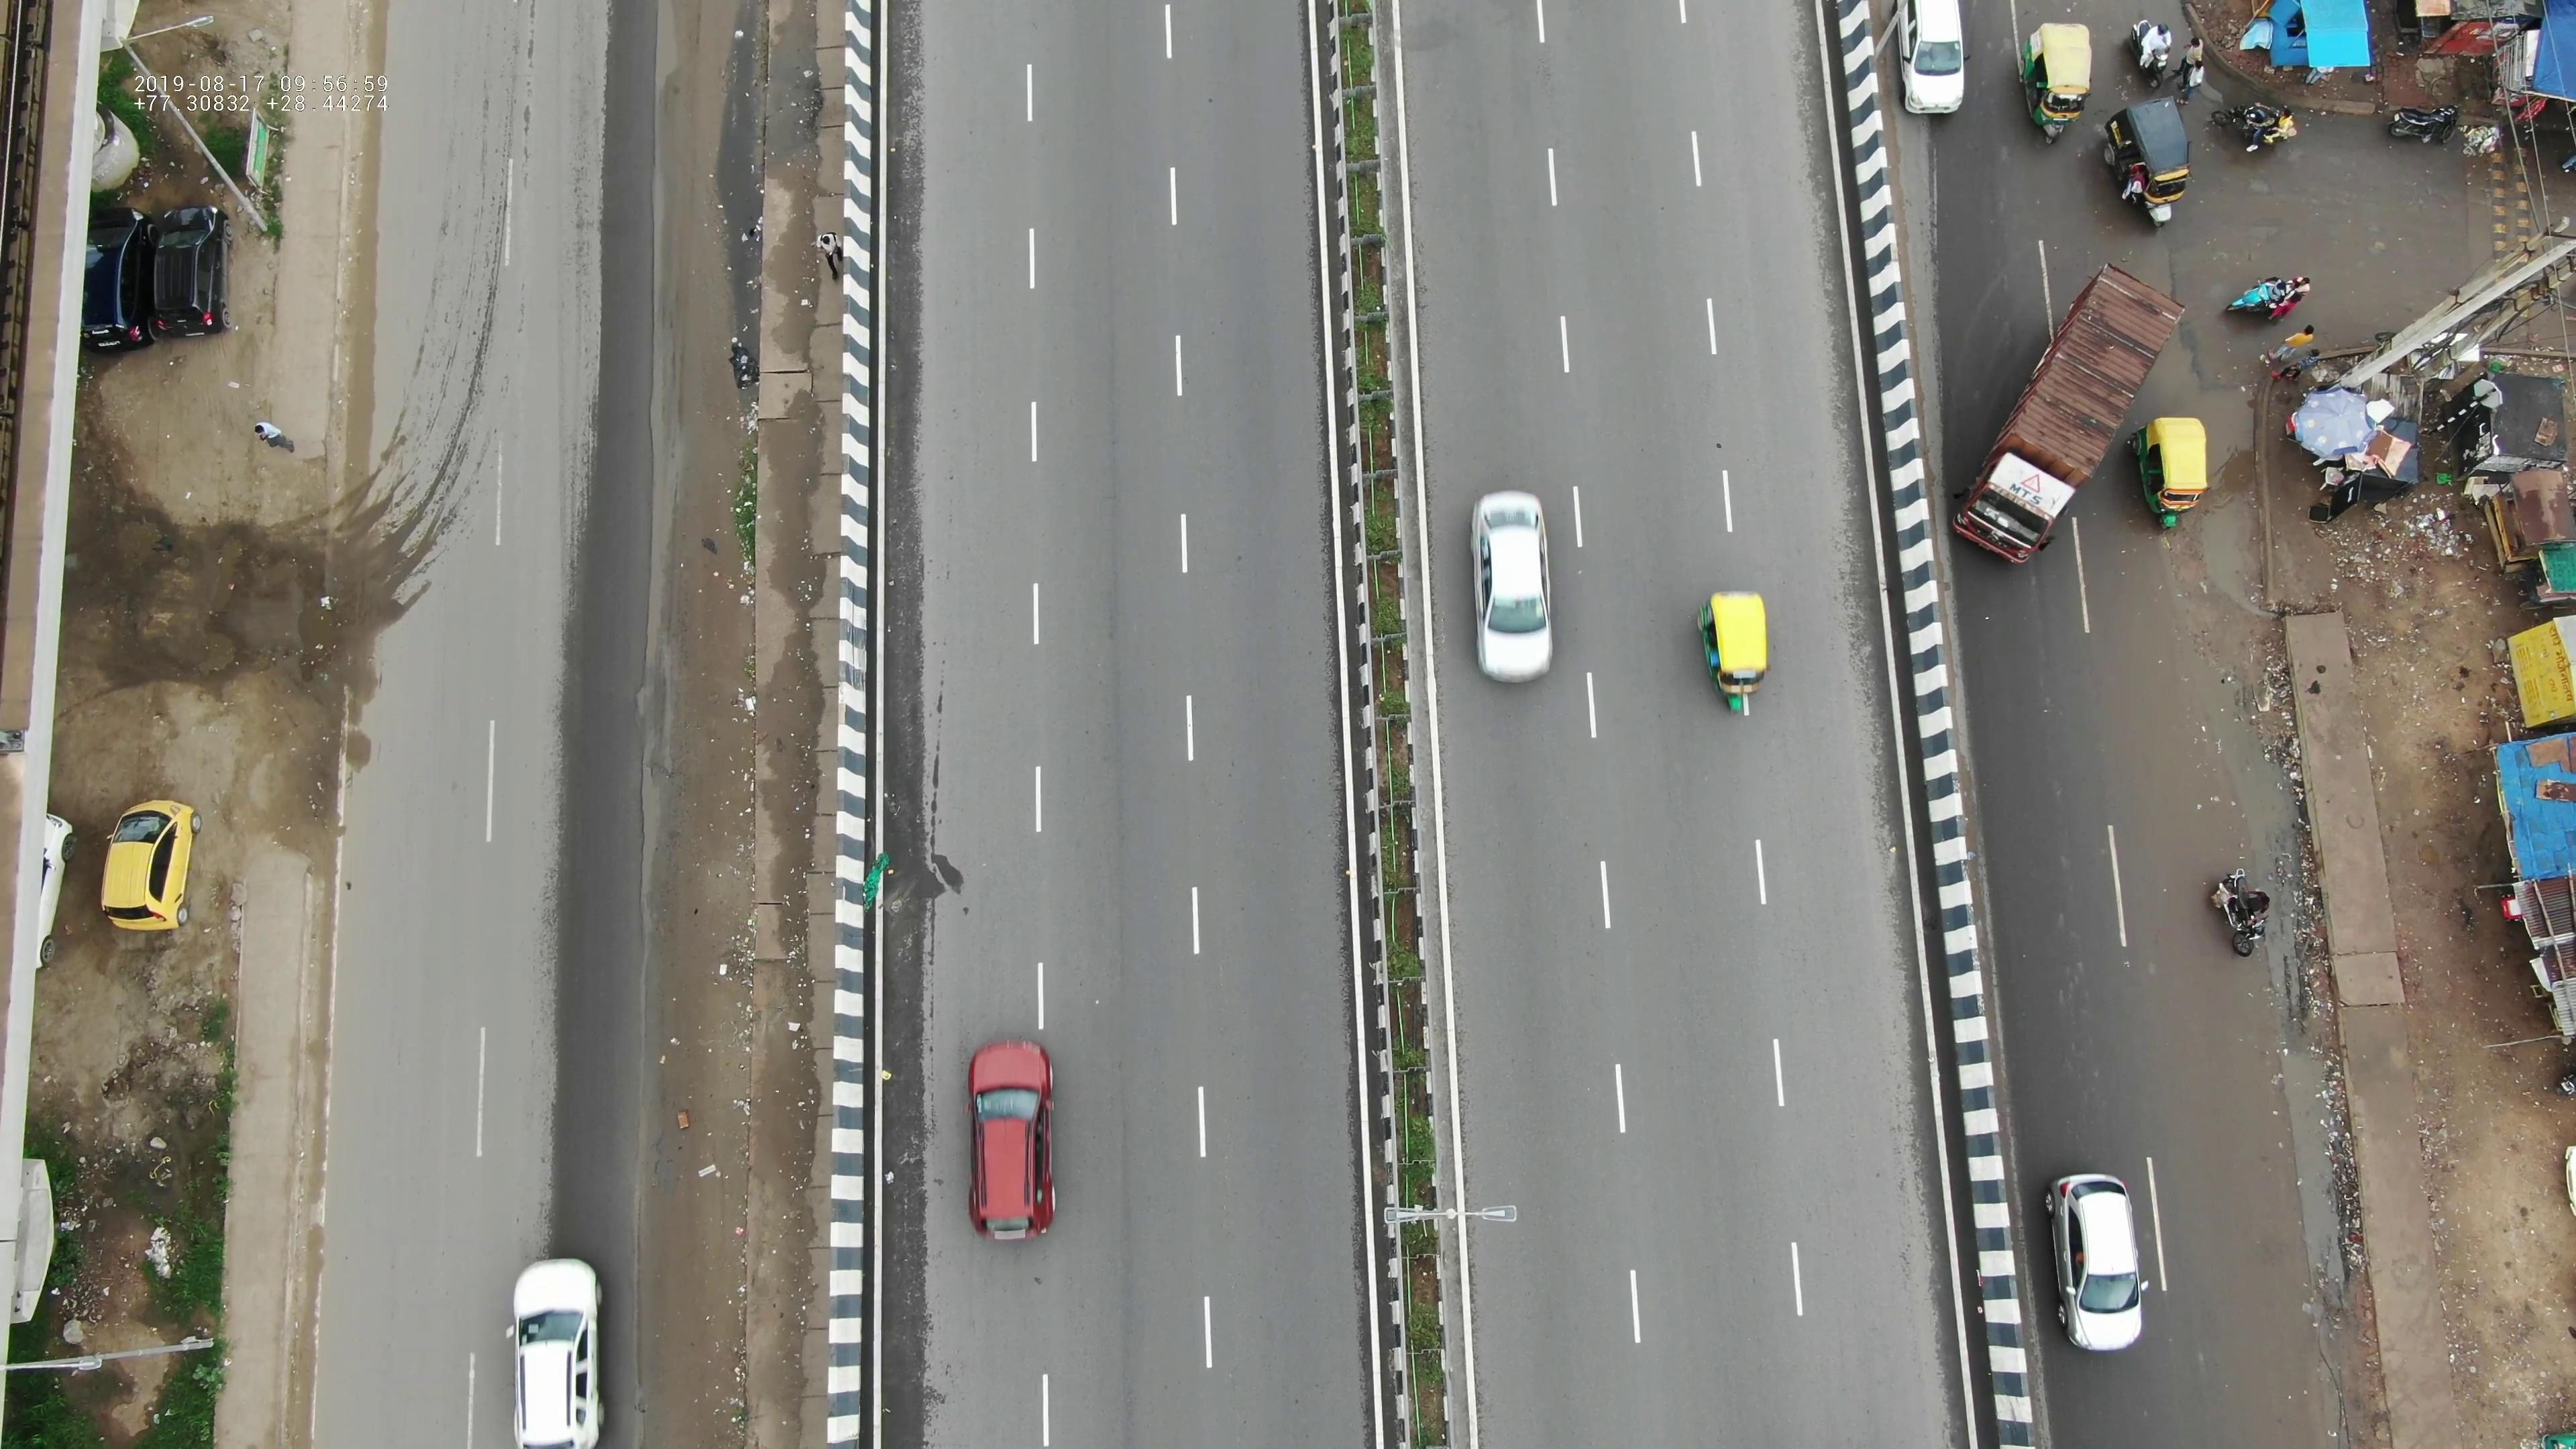Waterlogging: (2277, 943, 2383, 1299), (2226, 637, 2321, 863)
